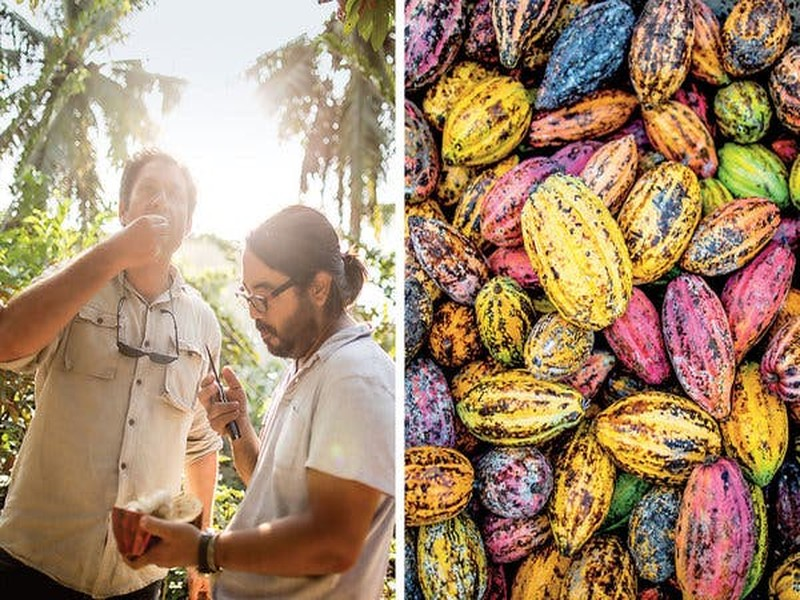Cacaopod: (522, 174, 630, 324)
